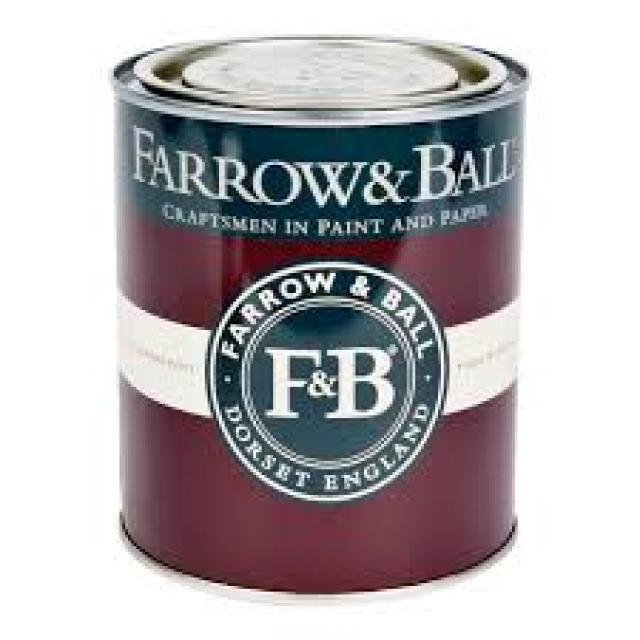recyclable: (112, 25, 530, 597)
